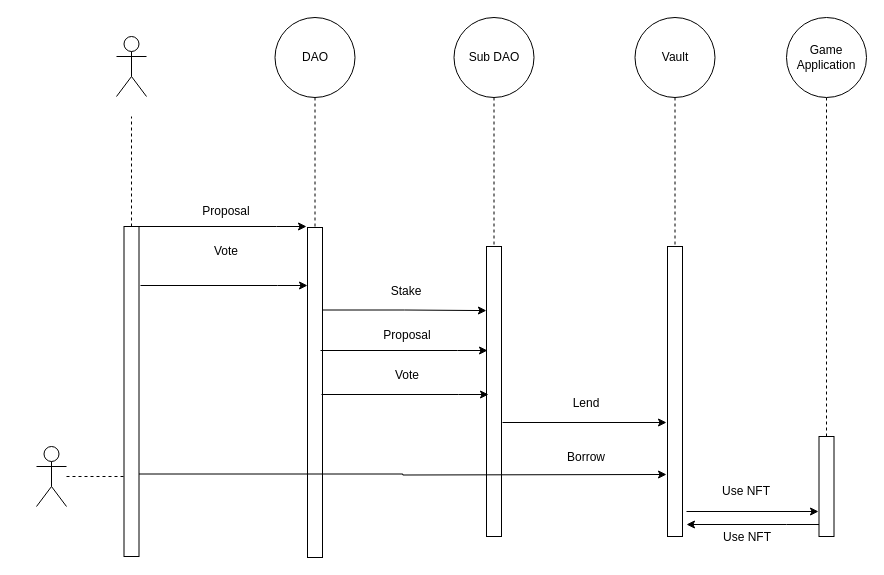
This 884x575 diagram has some shape labels left out. Each missing label, with the centre of its shape:
APE Holeder: point 131,66
Game player: point 51,476
